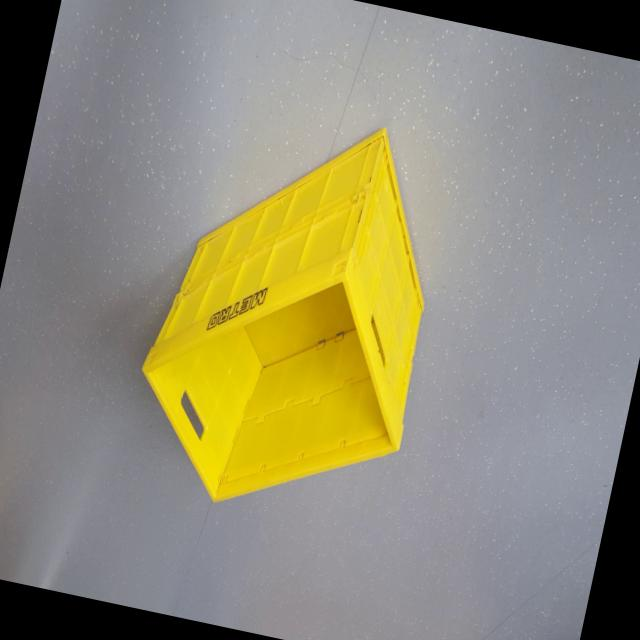box: (116, 76, 472, 554)
